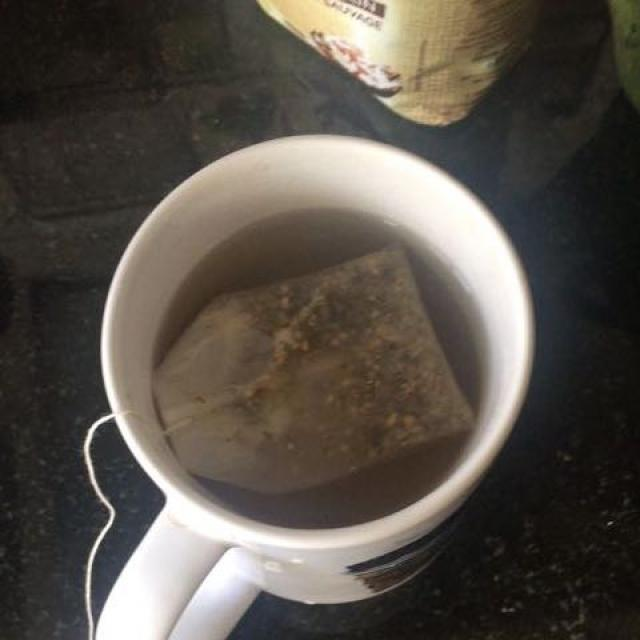tea: (153, 235, 463, 517)
